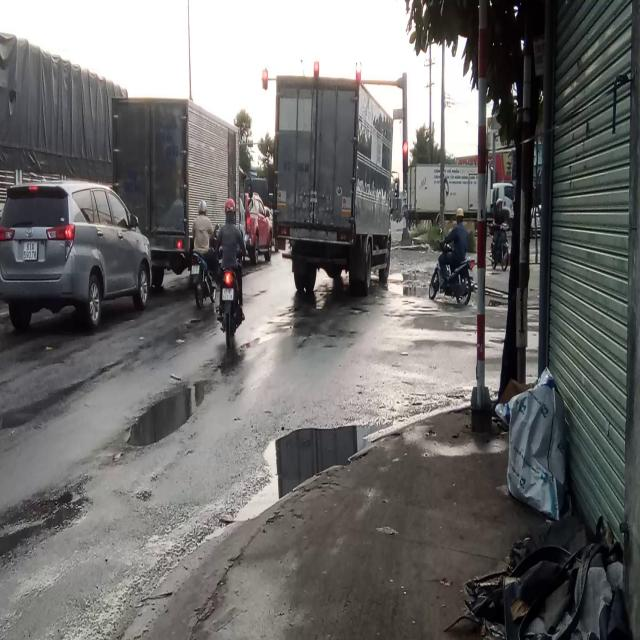bien_trang: (22, 233, 39, 260)
